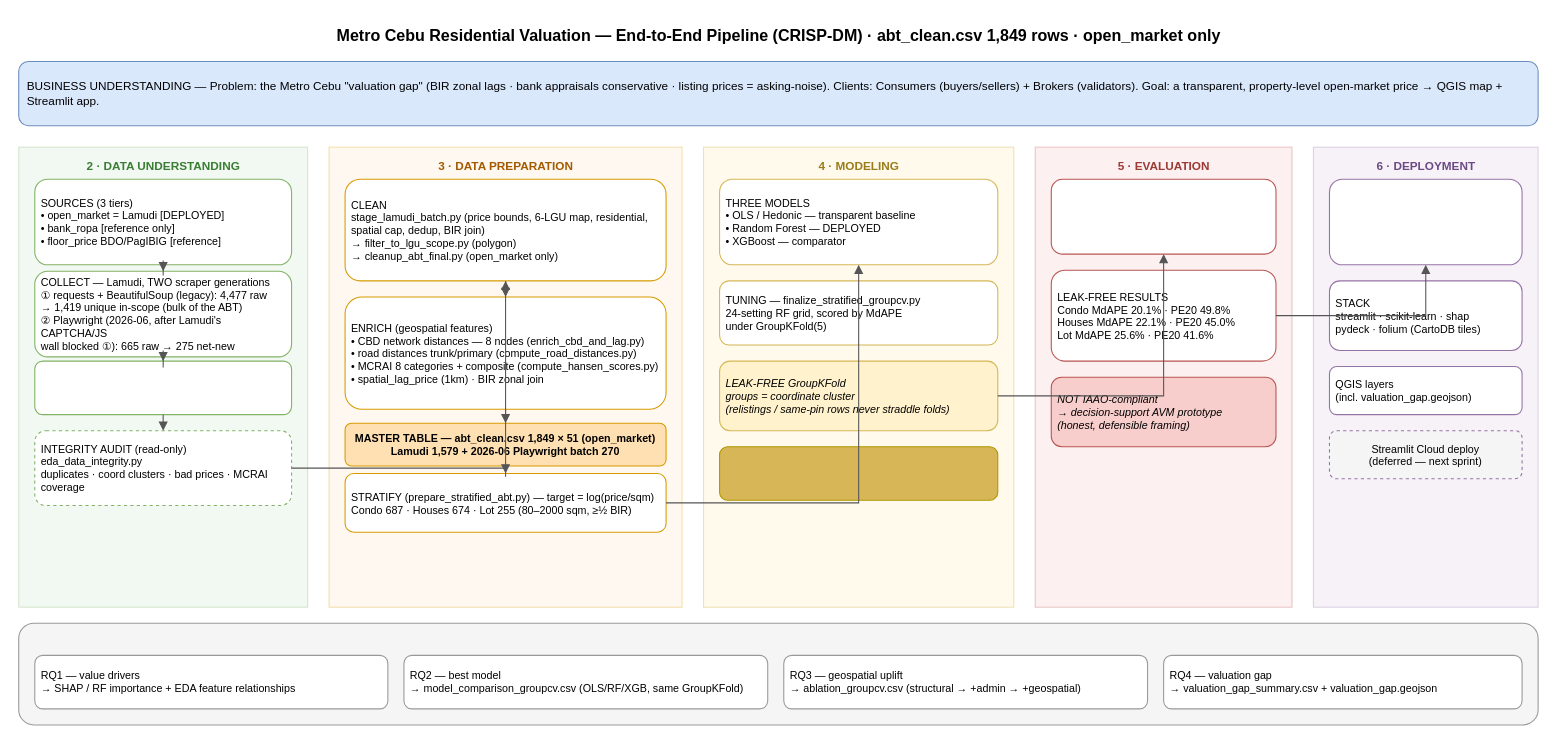
Some shapes in this 1557 by 744 pixel diagram are drawn without their labels. The shapes that lost their labels are listed below. From the top down, each one's box as (x1, y1, x2, y2) in pixels, then its label:
(1050, 178, 1276, 254): iaao_panel() Headline: MdAPE · PE20 Support: MAPE · COD · PRD
(1328, 178, 1522, 265): STREAMLIT APP (4 pages) Home · Market Map · Price Surface · Property Predictor
(34, 360, 292, 415): GEOCODE missing coords (Google) geocode_missing.py — Cebu bbox guard
(719, 446, 998, 500): ▶ see modeling_deepdive diagram (feature sets · RF vs XGB · why RF won)
(18, 622, 1538, 725): RESEARCH-QUESTION MAPPING
